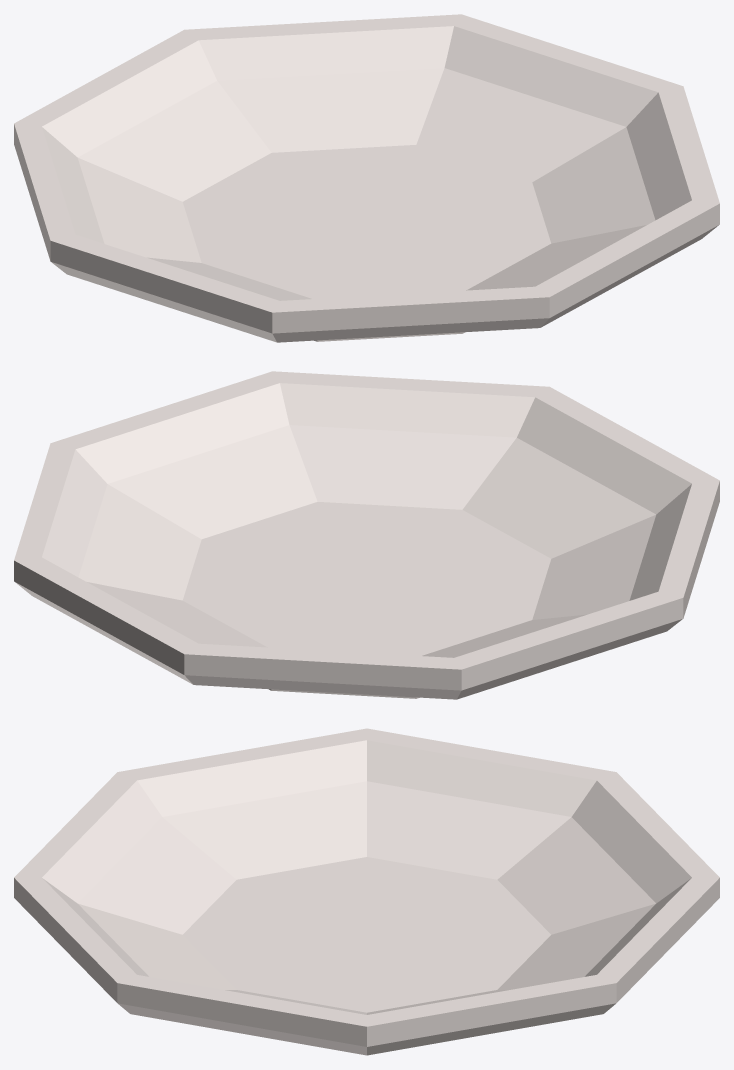
The model's file is plate.fbx.
3 renders of one model, top to bottom at view 1: azimuth 30°, elevation 25°; view 2: azimuth 150°, elevation 25°; view 3: azimuth 270°, elevation 25°, orthographic. The views are drawn at different scales.
Parts seen in each view (by area): view 1: plate; view 2: plate; view 3: plate.
Part boxes in pixels (bbox=[...]): plate: bbox=[14, 14, 719, 342]; plate: bbox=[14, 371, 719, 699]; plate: bbox=[14, 728, 719, 1055].
Bounding box in the file's own units: 90.57 × 13.71 × 90.57.
